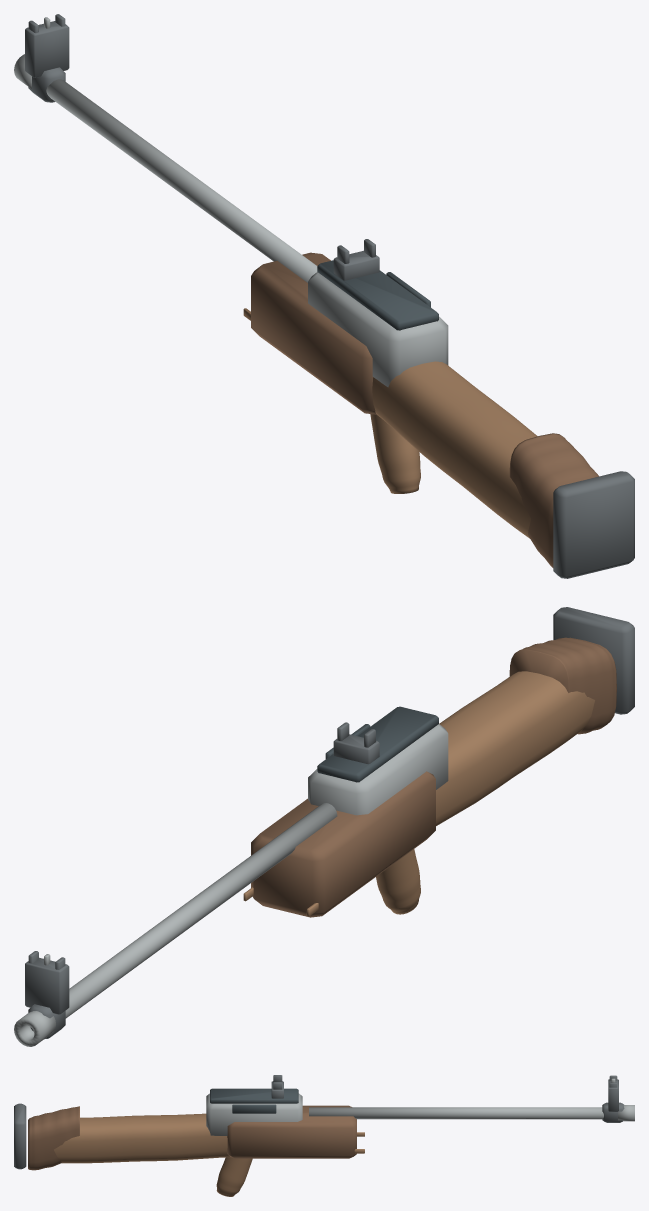
File: bolt_sniper_body.glb
The picture shows the model from 3 angles, top to bottom: view 1: azimuth 30°, elevation 25°; view 2: azimuth 150°, elevation 25°; view 3: azimuth 270°, elevation 25°; orthographic projection. The views are drawn at different scales.
Parts seen in each view (by area): view 1: profiled_surface; view 2: profiled_surface; view 3: profiled_surface.
Boxes of the visible parts, x1,y1,x2,y2 form: profiled_surface: [14, 14, 634, 578]; profiled_surface: [14, 607, 634, 1046]; profiled_surface: [14, 1075, 634, 1196].
Bounding box in the file's own units: 0.18 × 0.4943 × 2.39.
